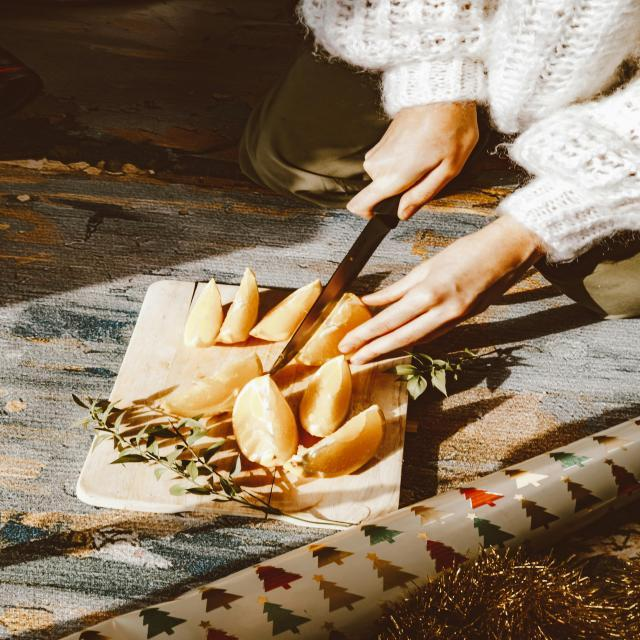knife: (269, 191, 400, 377)
